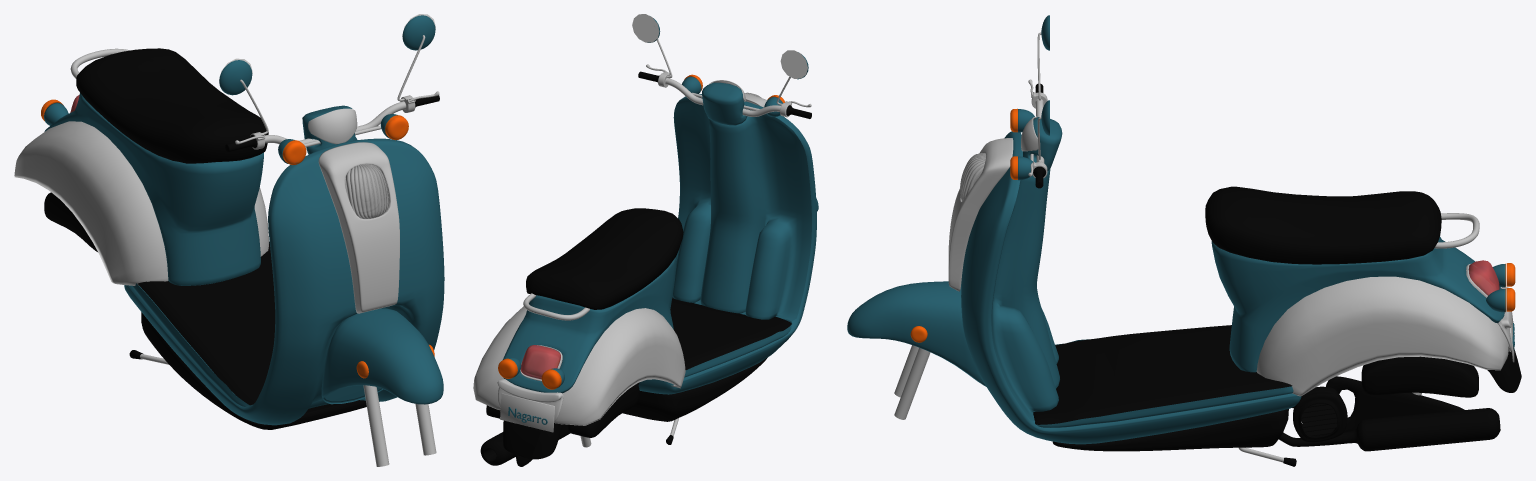
The model's file is scooter_body.glb.
3 views of the same model, side by side, from view 1: azimuth 30°, elevation 25°; view 2: azimuth 150°, elevation 25°; view 3: azimuth 270°, elevation 25° (orthographic). The views are drawn at different scales.
Parts seen in each view (by area): view 1: blue_metal, black_matte_color, silver_metal, Headlights; view 2: blue_metal, black_matte_color, silver_metal, Headlights, Mirror; view 3: black_matte_color, blue_metal, silver_metal, Headlights.
Part boxes in pixels (x1,y1,x2,y2): blue_metal: (44,15,444,425); black_matte_color: (44,48,439,429); silver_metal: (14,35,439,466); Headlights: (41,95,434,378); blue_metal: (503,16,818,424); black_matte_color: (480,71,811,466); silver_metal: (473,39,811,447); Headlights: (498,74,784,389); Mirror: (632,14,807,78); black_matte_color: (1033,83,1521,466); blue_metal: (847,15,1514,444); silver_metal: (894,32,1514,462); Headlights: (910,108,1515,342).
Bounding box in the file's own units: 3.59 × 6.31 × 10.15.
Materials: 5 (5 with a texture image).
